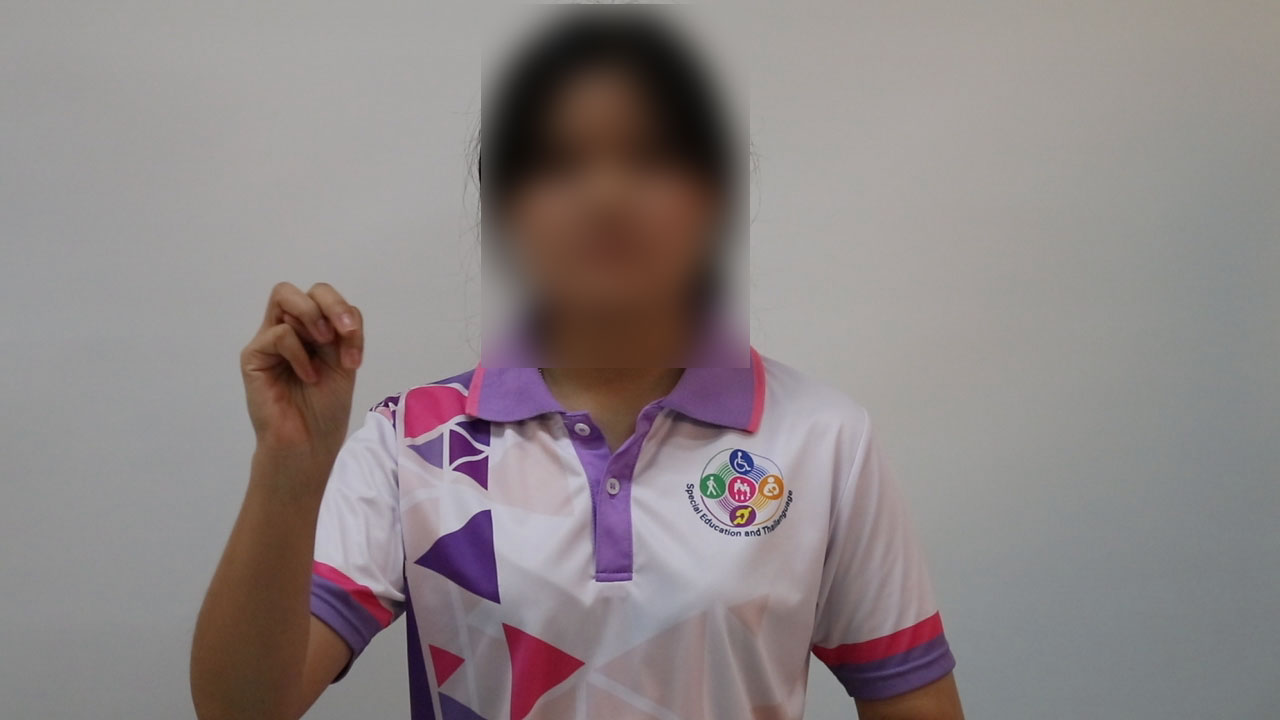mor: (232, 255, 370, 482)
